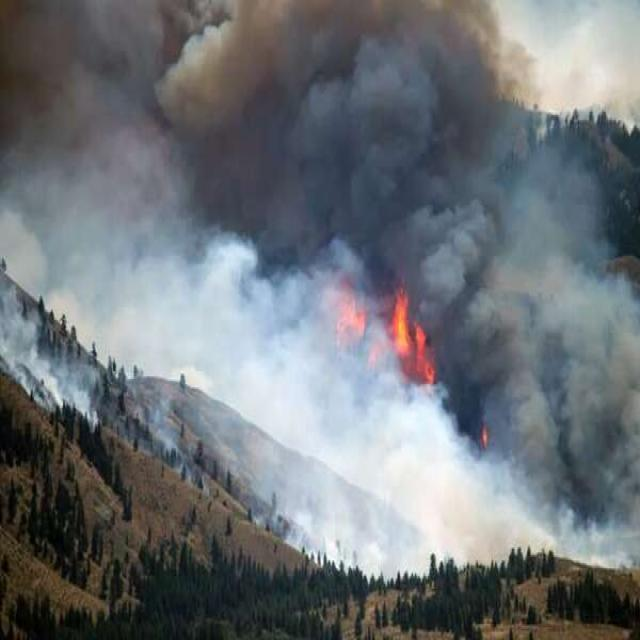Fire: (383, 272, 441, 390), (332, 278, 394, 383), (476, 422, 494, 454)
Smoke: (0, 0, 640, 586)
